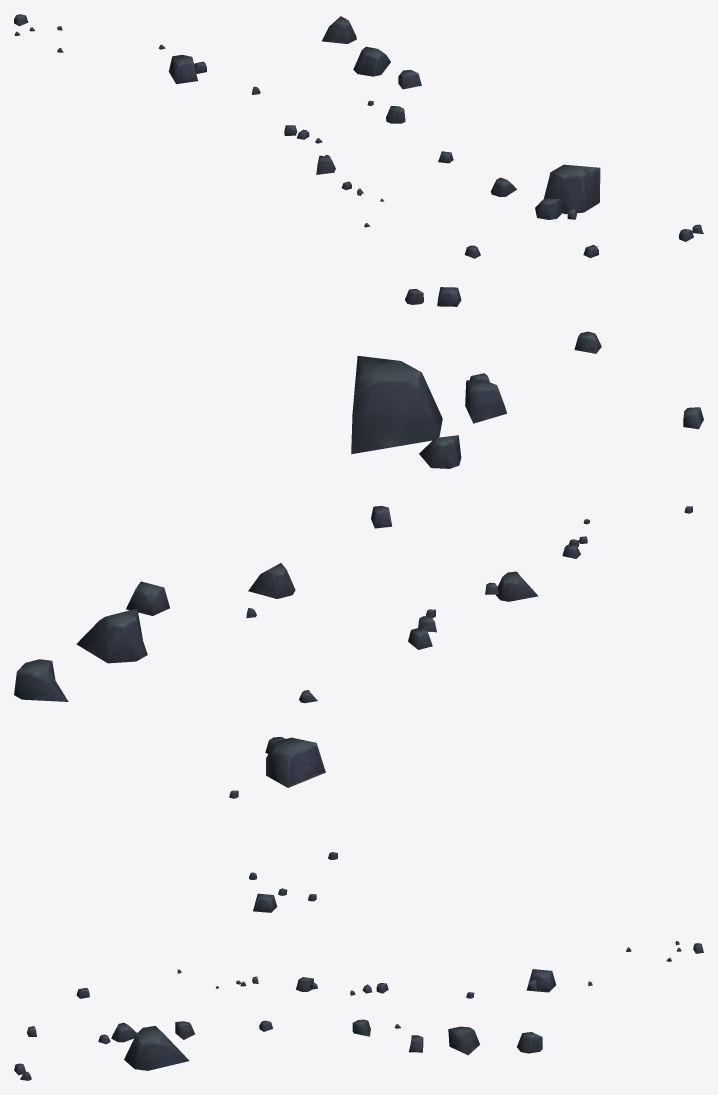
Rendered from Area_13_26.fbx.
3 renders of one model, top to bottom at view 1: azimuth 30°, elevation 25°; view 2: azimuth 150°, elevation 25°; view 3: azimuth 270°, elevation 25°, orthographic. The views are drawn at different scales.
Parts seen in each view (by area): view 1: Area_13_26; view 2: Area_13_26; view 3: Area_13_26.
Boxes of the visible parts, x1,y1,x2,y2 form: Area_13_26: [14, 14, 703, 258]; Area_13_26: [14, 287, 703, 912]; Area_13_26: [14, 941, 703, 1080].
Bounding box in the file's own units: 4772 × 445 × 10210.
